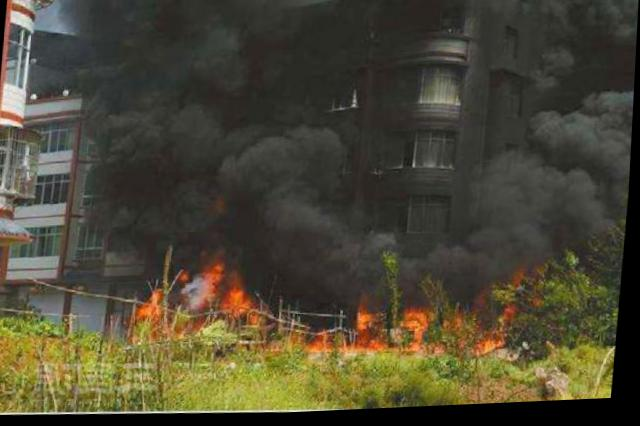fire: (229, 285, 257, 317), (310, 333, 338, 358), (143, 292, 167, 320), (407, 312, 436, 332), (484, 339, 507, 362), (357, 338, 387, 355), (360, 311, 382, 333), (207, 262, 227, 286), (416, 333, 428, 355)
smoke: (94, 117, 361, 271), (57, 0, 294, 129), (442, 150, 632, 292), (525, 0, 639, 152)
